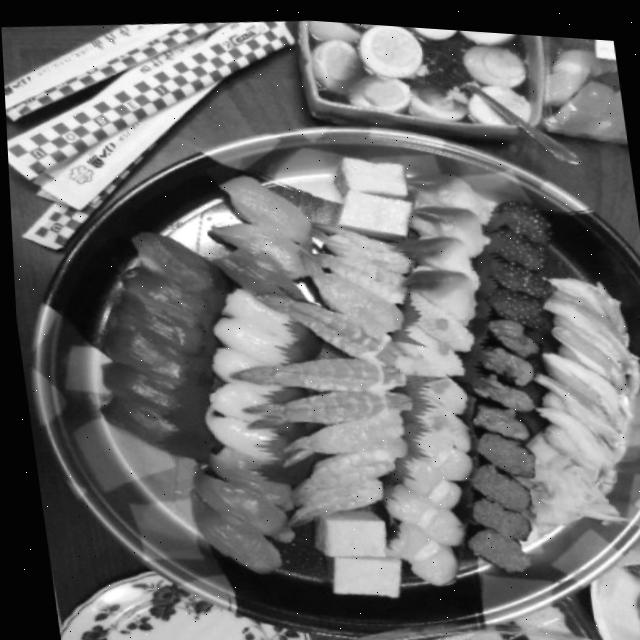寿司卷物: (4, 86, 640, 640)
